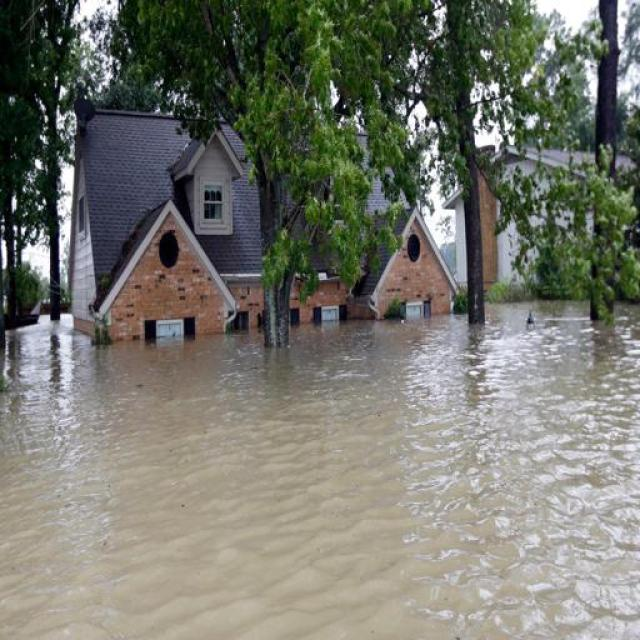puddle: (10, 332, 640, 640), (307, 325, 632, 450)
